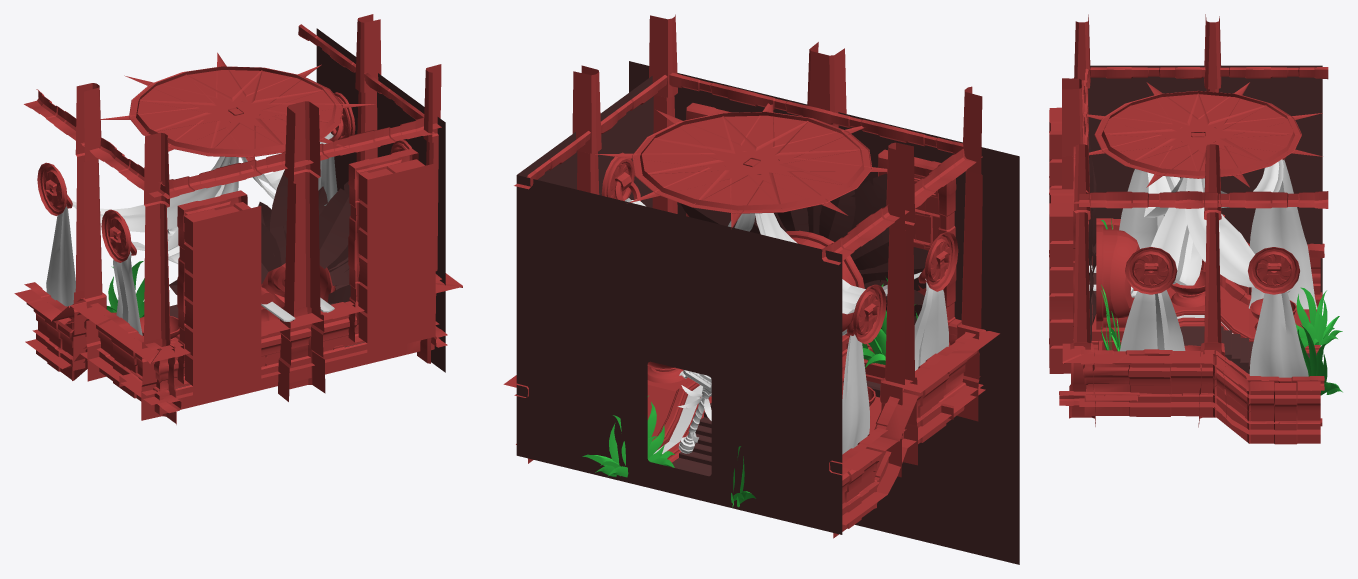
Rendered from m_ML_cardBG.fbx.
3 views of the same model, side by side, from view 1: azimuth 30°, elevation 25°; view 2: azimuth 150°, elevation 25°; view 3: azimuth 270°, elevation 25° (orthographic). The views are drawn at different scales.
Parts seen in each view (by area): view 1: m_ML_bg_mirror, m_ML_bg_noMirror, m_ML_bg_drapes, m_ML_bg_walls; view 2: m_ML_bg_walls, m_ML_bg_mirror, m_ML_bg_noMirror, m_ML_bg_drapes, m_ML_weapon, m_ML_bg_water; view 3: m_ML_bg_mirror, m_ML_bg_drapes, m_ML_bg_noMirror, m_ML_bg_walls.
Boxes of the visible parts, x1,y1,x2,y2 form: m_ML_bg_mirror: [14, 14, 462, 424]; m_ML_bg_noMirror: [100, 52, 375, 304]; m_ML_bg_drapes: [46, 132, 337, 335]; m_ML_bg_walls: [316, 28, 445, 372]; m_ML_bg_walls: [516, 61, 1019, 564]; m_ML_bg_mirror: [503, 14, 999, 538]; m_ML_bg_noMirror: [595, 103, 928, 328]; m_ML_bg_drapes: [625, 198, 948, 454]; m_ML_weapon: [678, 370, 711, 453]; m_ML_bg_water: [653, 385, 702, 454]; m_ML_bg_mirror: [1049, 14, 1342, 444]; m_ML_bg_drapes: [1119, 159, 1317, 377]; m_ML_bg_noMirror: [1074, 82, 1322, 342]; m_ML_bg_walls: [1088, 65, 1322, 295].
Bounding box in the file's own units: 12.22 × 13.97 × 9.35.
